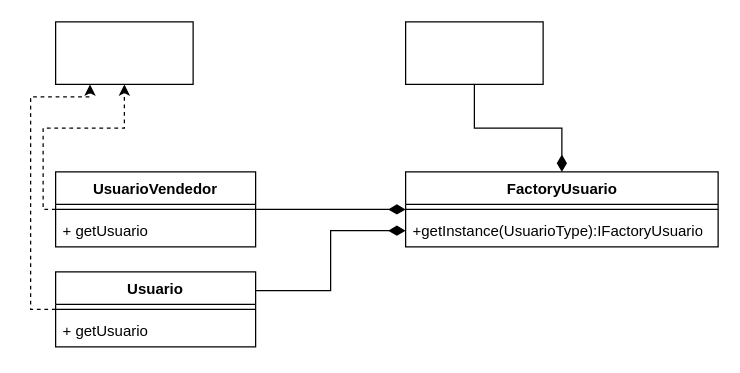
The diagram is 740 pixels wide and 373 high, and some of its shapes have lost their labels. Each missing label, with the centre of its shape:
"«enum» UsuarioType" goes at (473,52).
"«interface» IFactoryUsuario" goes at (123,52).
